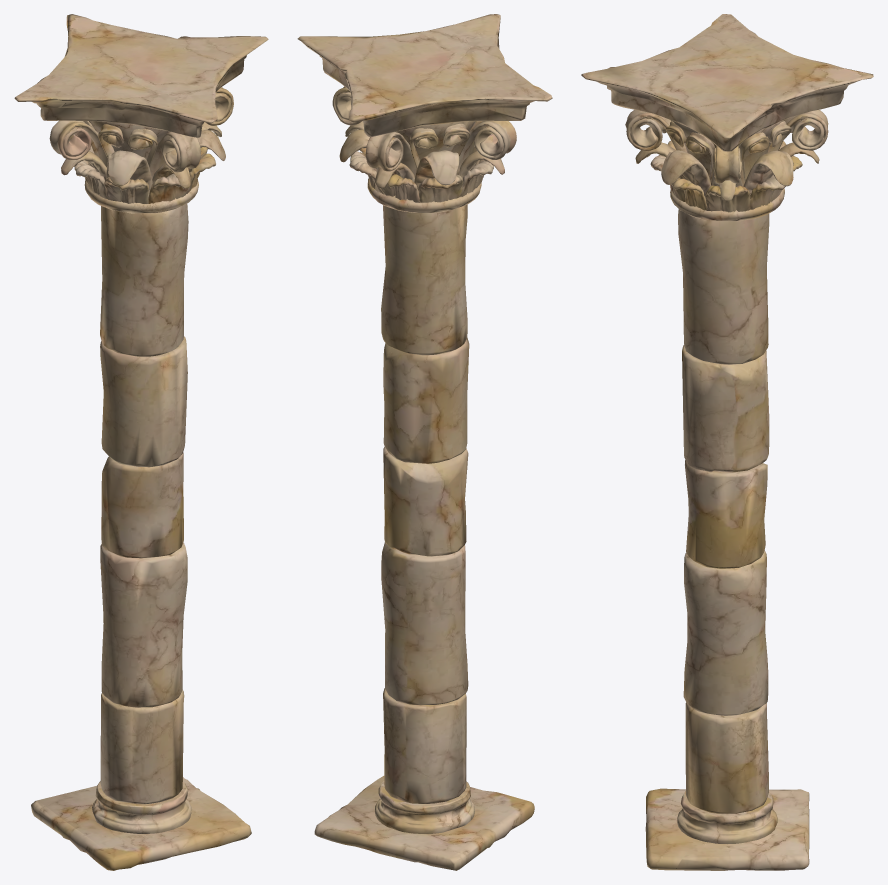
File: tower_model3.glb
3 views of the same model, side by side, from view 1: azimuth 30°, elevation 25°; view 2: azimuth 150°, elevation 25°; view 3: azimuth 270°, elevation 25° (orthographic).
Visible parts, largest first — view 1: defaultMaterial (×4); view 2: defaultMaterial (×4); view 3: defaultMaterial (×4).
Part boxes in pixels (x1,y1,x2,y2): defaultMaterial (×4): (14, 14, 268, 870); defaultMaterial (×4): (297, 14, 552, 870); defaultMaterial (×4): (581, 14, 873, 870).
Bounding box in the file's own units: 9.4 × 27.15 × 9.43.
Materials: 4 (4 with a texture image).
